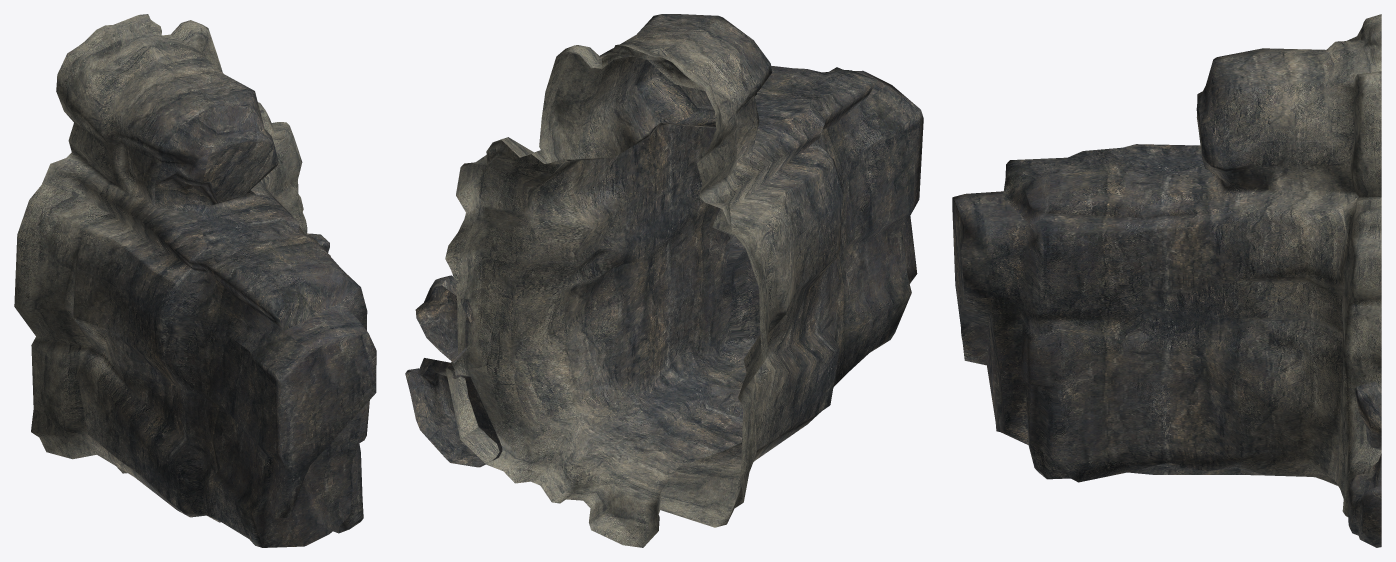
File: tdr_c_rock_f.obj
3 renders of one model, left to right at view 1: azimuth 30°, elevation 25°; view 2: azimuth 150°, elevation 25°; view 3: azimuth 270°, elevation 25°, orthographic. The views are drawn at different scales.
Parts seen in each view (by area): view 1: Body.rock_desert_f.smd.mesh_0; view 2: Body.rock_desert_f.smd.mesh_0; view 3: Body.rock_desert_f.smd.mesh_0.
Boxes of the visible parts, left/top/right/bottom form: Body.rock_desert_f.smd.mesh_0: left=14, top=14, right=376, bottom=547; Body.rock_desert_f.smd.mesh_0: left=405, top=14, right=923, bottom=547; Body.rock_desert_f.smd.mesh_0: left=952, top=14, right=1381, bottom=547.
Size of the model in its own units: 258 by 346 by 285.
1 material, 1 textured.
